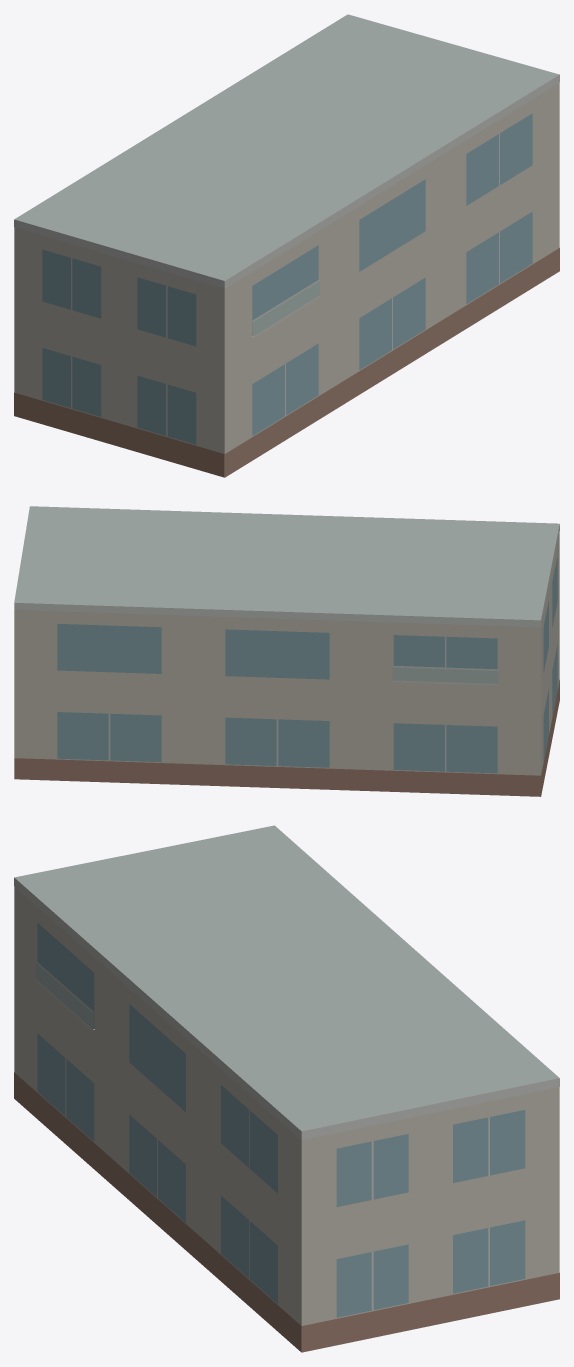
File: survey-upis-32704788.glb
3 renders of one model, top to bottom at view 1: azimuth 30°, elevation 25°; view 2: azimuth 150°, elevation 25°; view 3: azimuth 270°, elevation 25°, orthographic. The views are drawn at different scales.
Parts seen in each view (by area): view 1: survey-upis-32704788.tmp; view 2: survey-upis-32704788.tmp; view 3: survey-upis-32704788.tmp.
Boxes of the visible parts, x1,y1,x2,y2 form: survey-upis-32704788.tmp: (14,14,559,477); survey-upis-32704788.tmp: (14,506,559,796); survey-upis-32704788.tmp: (14,825,559,1352).
Bounding box in the file's own units: 18.12 × 6.1 × 13.65.
